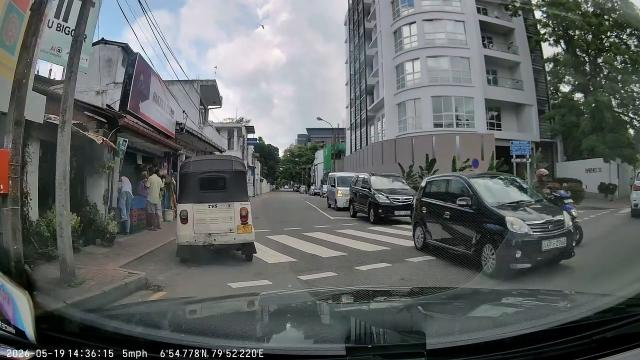illegal parking: (176, 155, 268, 266)
number plate: (234, 218, 255, 237)
